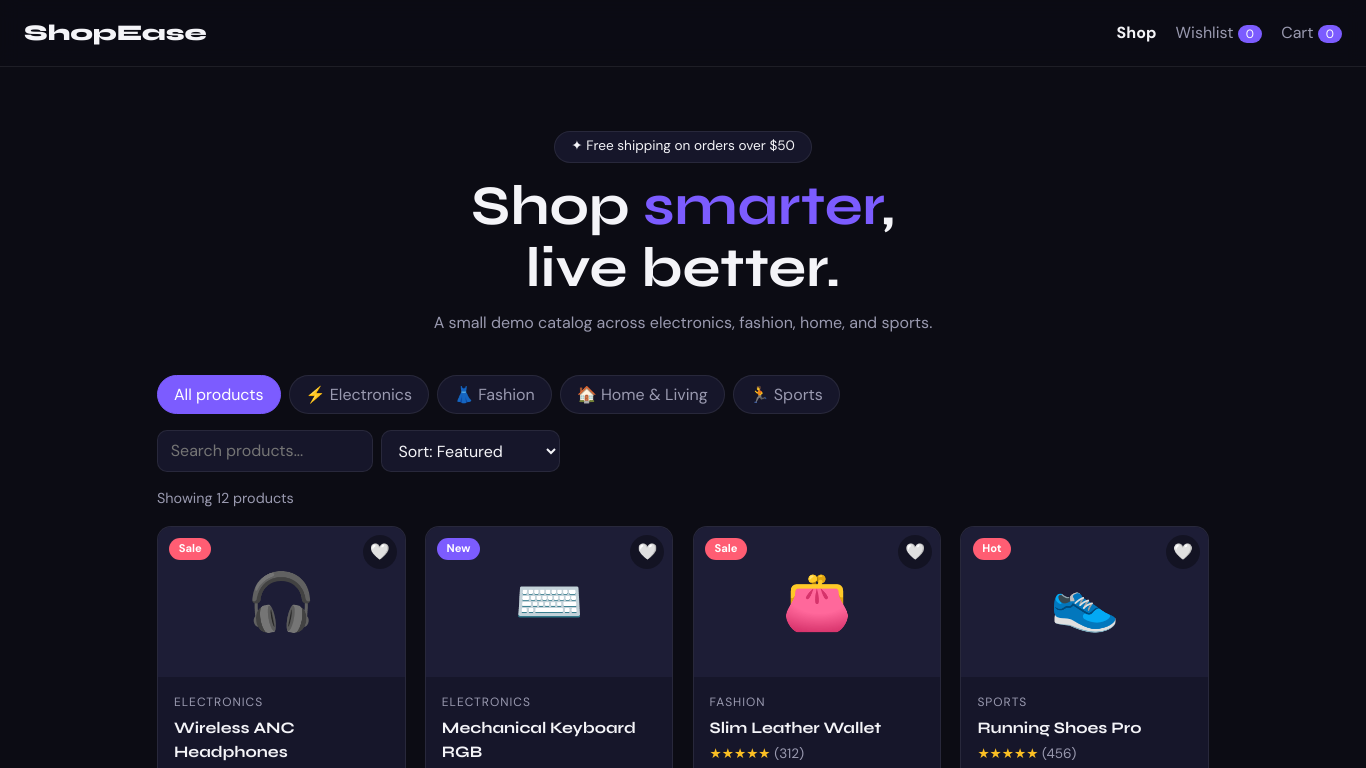
Test: ShopEase app › shows an empty message when nothing matches
In the search field labelled "Search products": [265, 451] box top-left (157, 430), bottom-right (373, 472), type "zzzz"
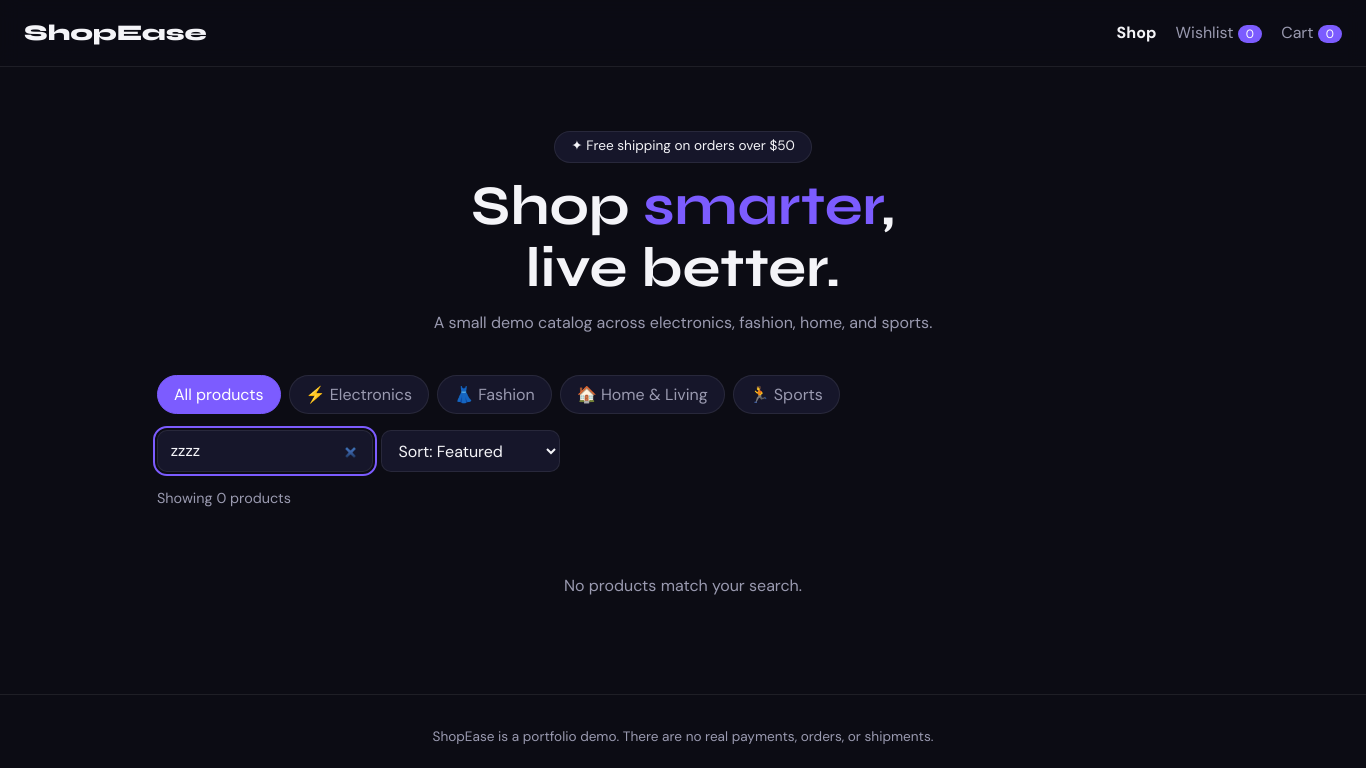
Expected: the text "No products match your search." is shown, top-left (564, 575), bottom-right (802, 596)
